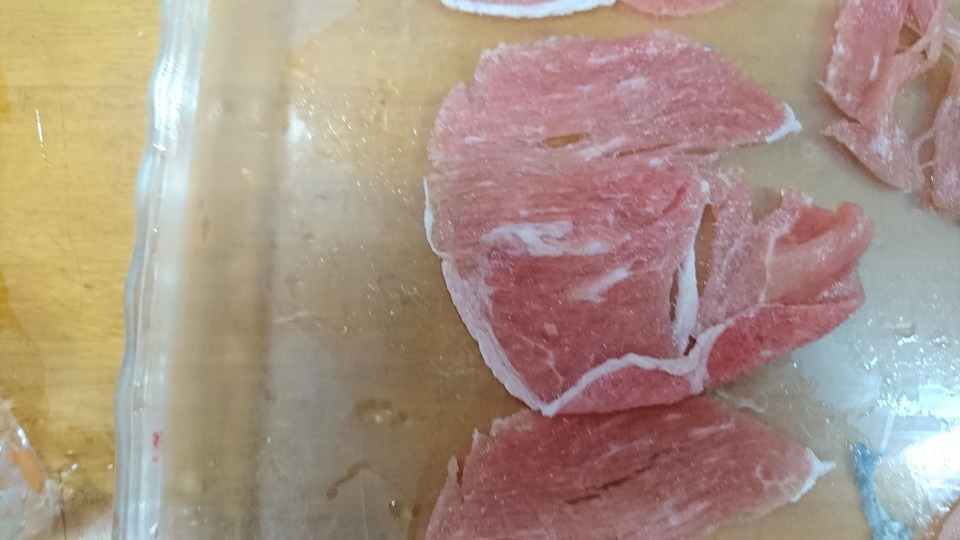restructured meat: (401, 43, 871, 410), (439, 420, 843, 533), (829, 1, 960, 204)
